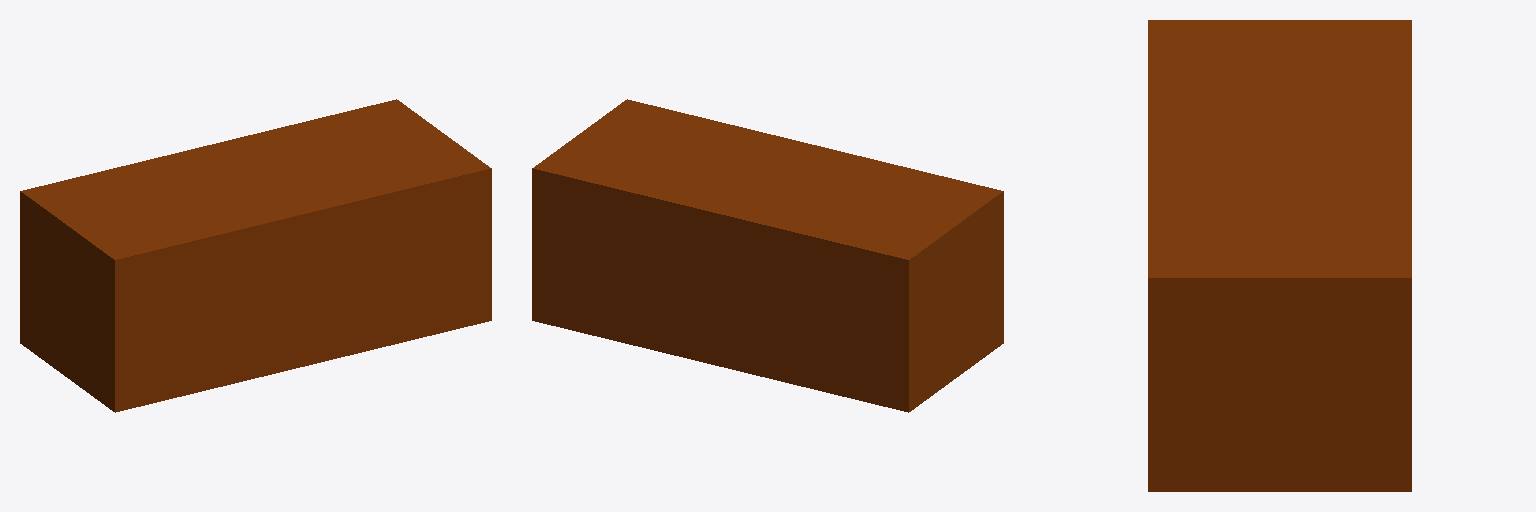
URDF robot description (handle_head):
<?xml version="1.0"?>
<robot name="handle_head">

  <link name="handle_head">
    <!-- Handle -->
    <visual>
      <origin xyz="0 0 0" rpy="0 0 0"/>
      <geometry>
        <box size="0.11547033434672632 0.050162469745750005 0.044677184259654376"/>
      </geometry>
      <material name="brown">
        <color rgba="0.55 0.27 0.07 1.0"/>
      </material>
    </visual>
    <collision>
      <origin xyz="0 0 0" rpy="0 0 0"/>
      <geometry>
        <box size="0.11547033434672632 0.050162469745750005 0.044677184259654376"/>
      </geometry>
    </collision>

    <inertial>
      <origin xyz="0 0 0" rpy="0 0 0"/>
      <mass value="0.11086320852777014"/>
      <inertia ixx="4.1687561231568823e-05" iyy="0.00014162265757081087" izz="0.00014642878624612597" ixy="0" ixz="0" iyz="0"/>
    </inertial>
  </link>

</robot>

--- Render facts (derived) ---
The picture shows the robot from 3 angles, left to right: view 1: azimuth 30°, elevation 25°; view 2: azimuth 150°, elevation 25°; view 3: azimuth 270°, elevation 25°; orthographic projection.
Robot: handle_head — 1 links, 0 joints (none); root link handle_head; default pose: every joint at zero.
Visible links, largest first — view 1: handle_head; view 2: handle_head; view 3: handle_head.
Boxes of the visible links, box(x1,y1,x2,y2) form: handle_head: box(20, 99, 491, 412); handle_head: box(532, 99, 1003, 412); handle_head: box(1148, 20, 1411, 491).
Bounding box of the posed robot: 0.1155 × 0.0502 × 0.0447 m (x, y, z).
Geometry: primitives only (box / cylinder / sphere), no mesh files.
